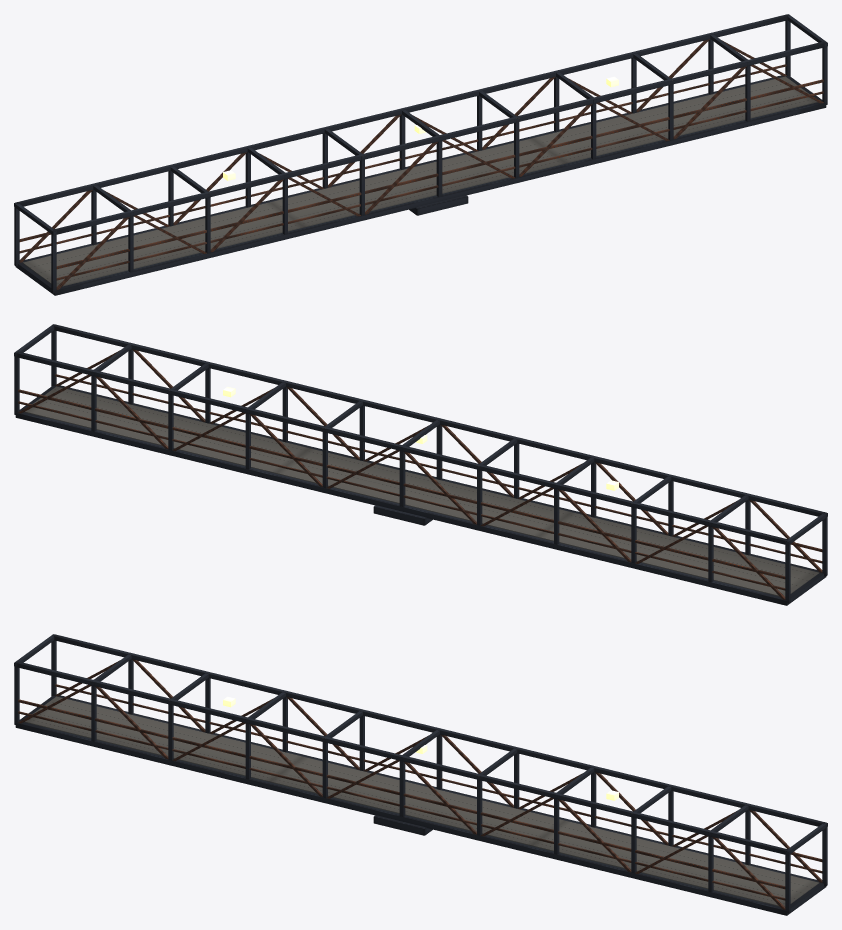
The model's file is ashblock_skybridge_truss.glb.
3 views of the same model, one above another, from view 1: azimuth 30°, elevation 25°; view 2: azimuth 150°, elevation 25°; view 3: azimuth 330°, elevation 25° (orthographic).
Parts seen in each view (by area): view 1: ashblock_skybridge_truss; view 2: ashblock_skybridge_truss; view 3: ashblock_skybridge_truss.
Part boxes in pixels (x1,y1,x2,y2): ashblock_skybridge_truss: (14,14,827,295); ashblock_skybridge_truss: (14,324,827,605); ashblock_skybridge_truss: (14,634,827,915).
Size of the model in its own units: 36.36 by 3.35 by 3.55.
1 material, 1 textured.
